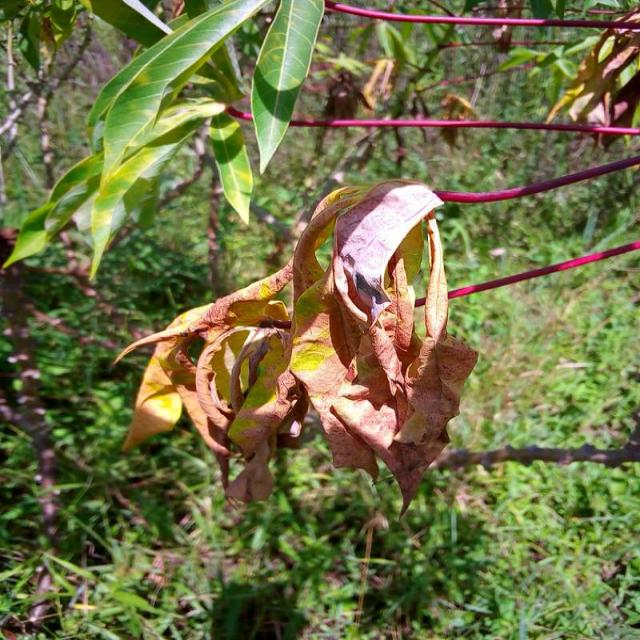cassava leaf: (114, 177, 480, 518), (250, 0, 326, 174)
